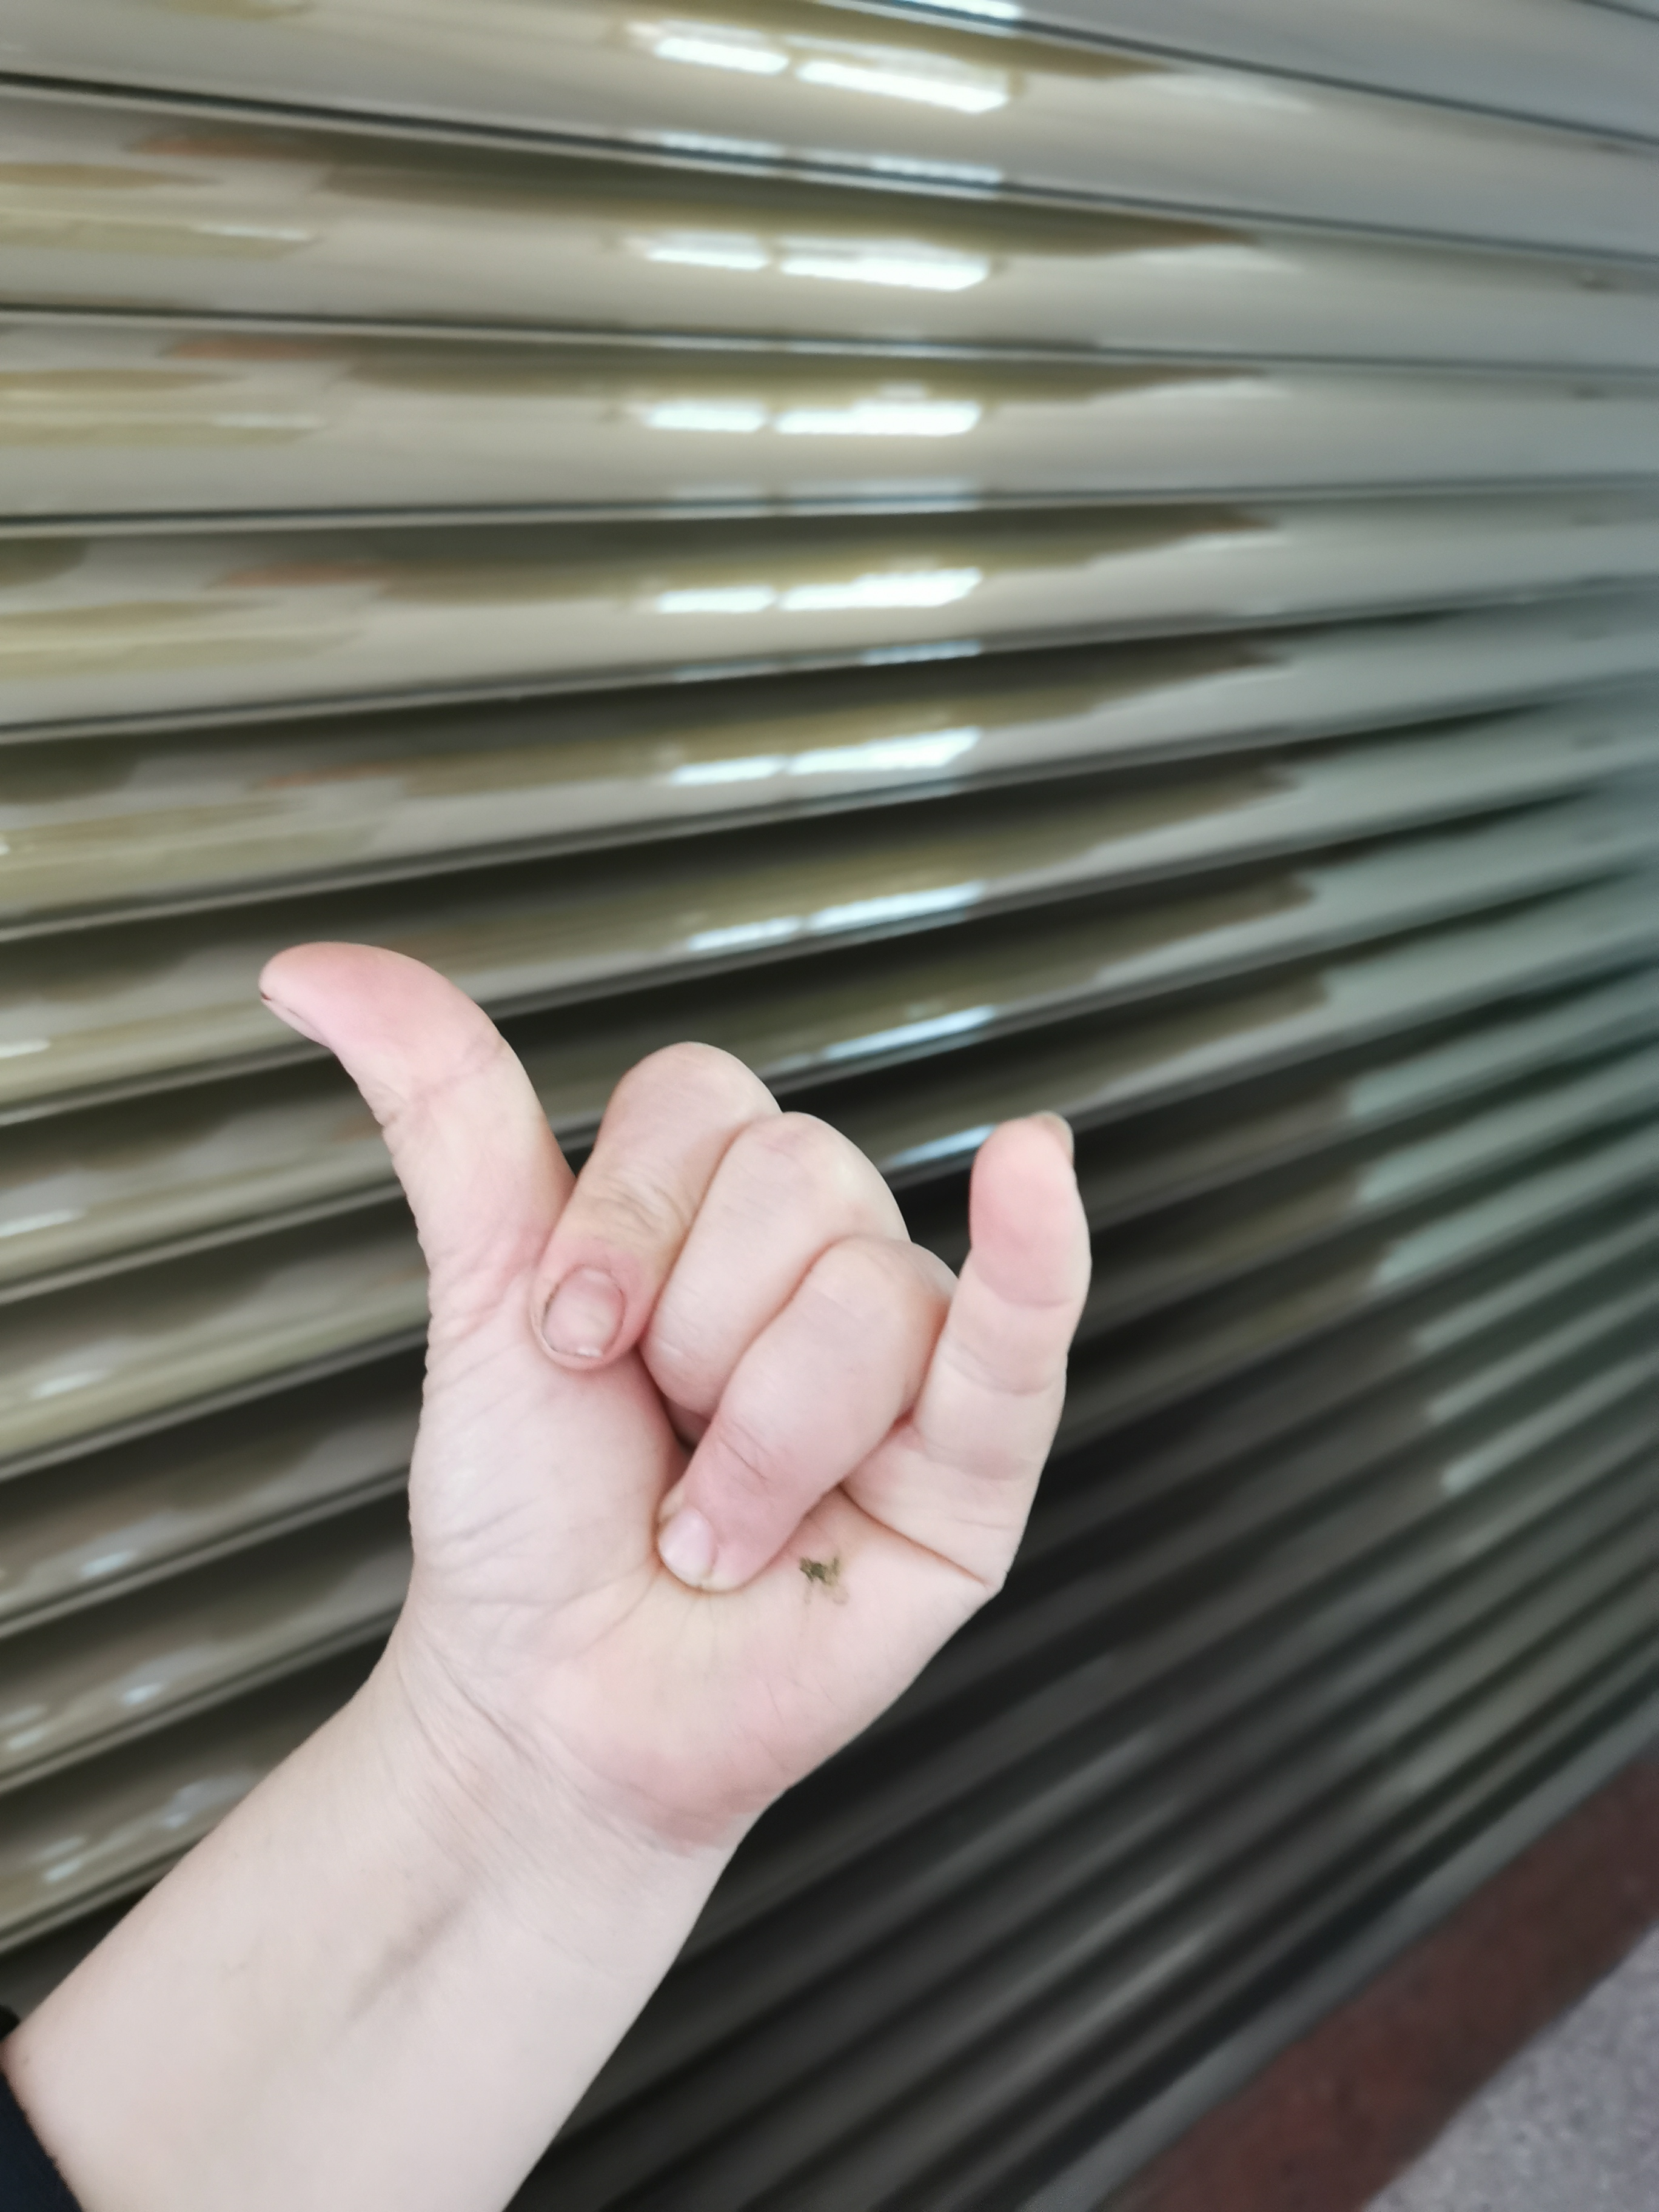clockwise: (232, 939, 1094, 1763)
